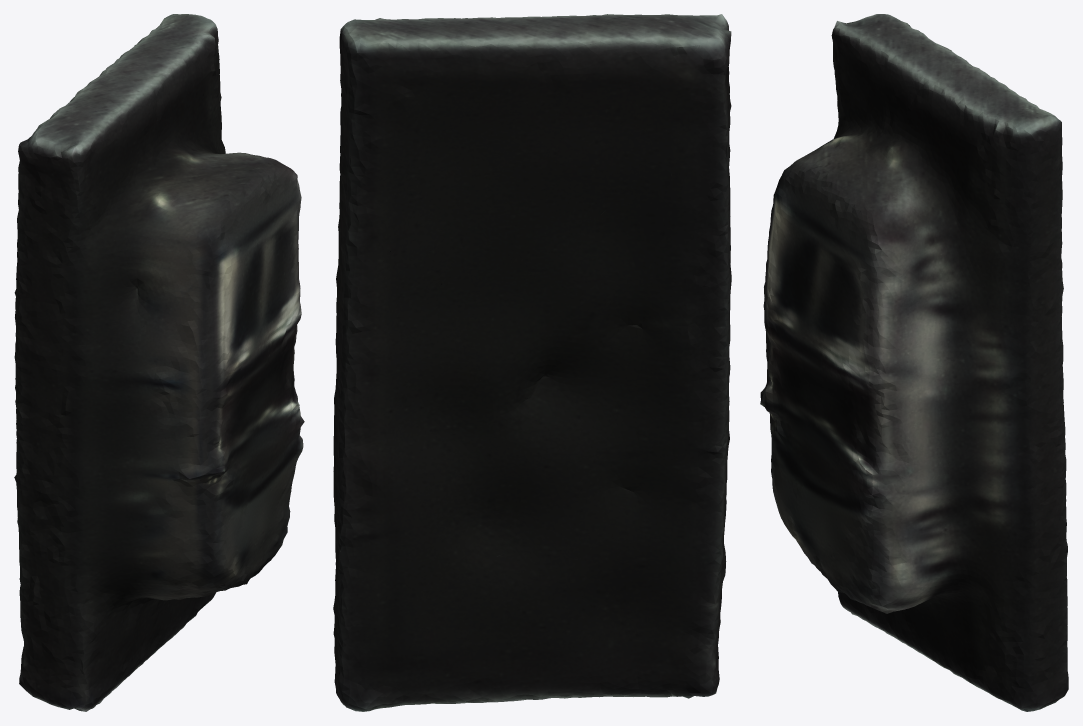
File: IMG_SEG_20.glb
3 views of the same model, side by side, from view 1: azimuth 30°, elevation 25°; view 2: azimuth 150°, elevation 25°; view 3: azimuth 270°, elevation 25° (orthographic). The views are drawn at different scales.
Bounding box in the file's own units: 0.4844 × 0.9584 × 0.4566.
1 material, 1 textured.
